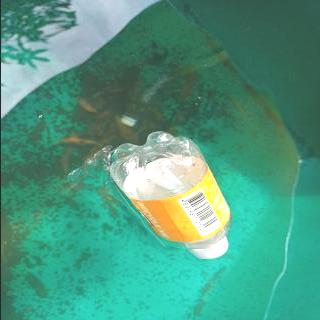bottle: (108, 130, 235, 261)
